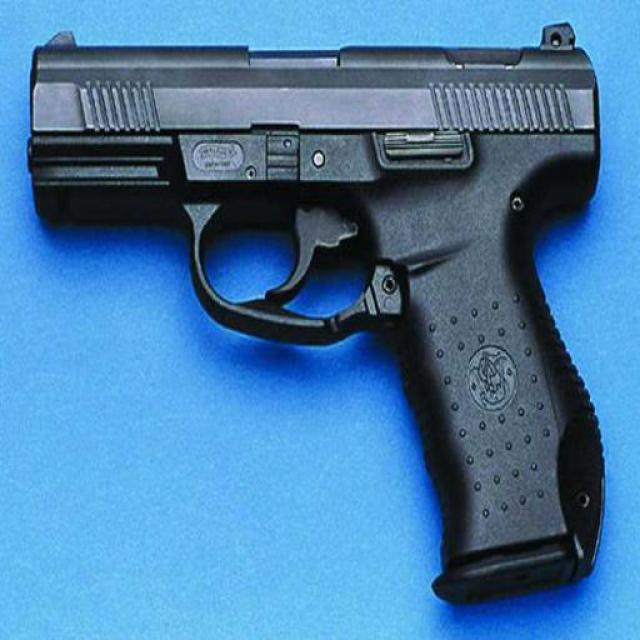pistol: (30, 25, 607, 601)
